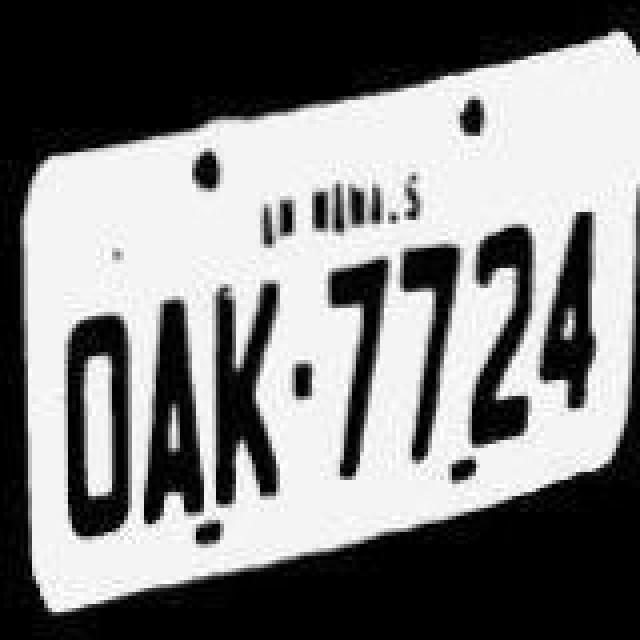2: (460, 208, 536, 452)
4: (534, 192, 606, 440)
7: (322, 250, 402, 482), (392, 236, 468, 464)
A: (136, 288, 204, 528)
K: (208, 268, 284, 520)
O: (54, 302, 134, 546)
